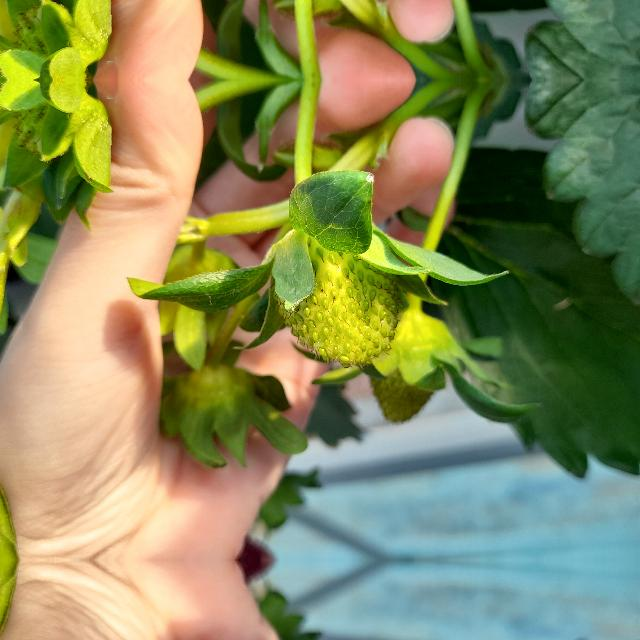Health_25: (273, 238, 401, 369)
